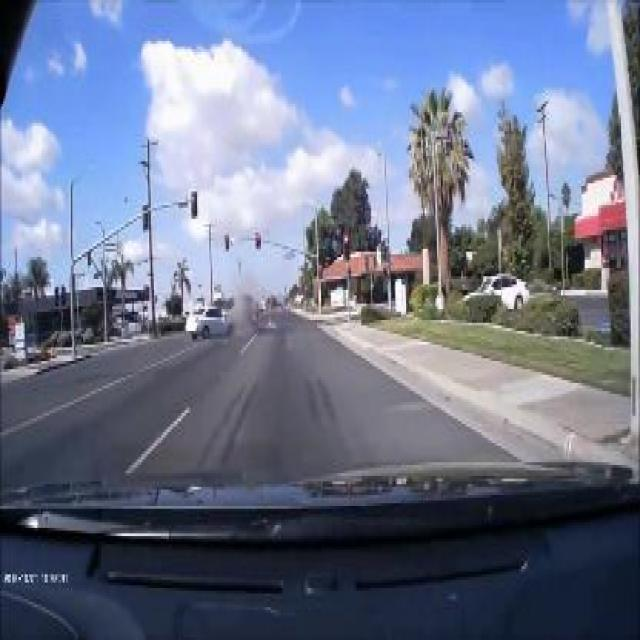accident: (184, 290, 259, 339)
